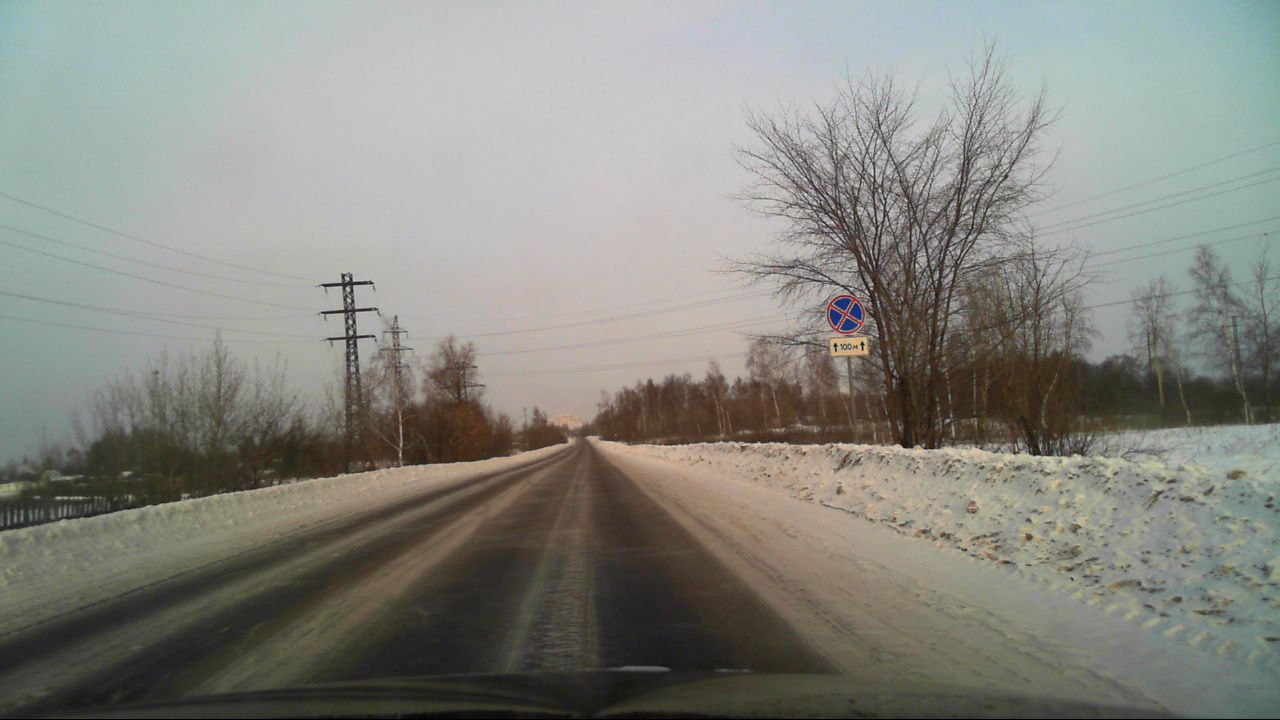No Parking: (828, 294, 865, 334)
